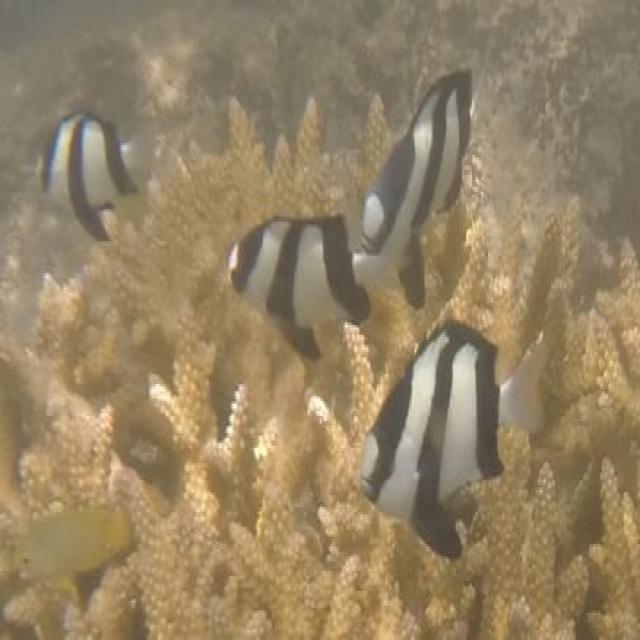Three_striped DasmselFish: (348, 318, 553, 562), (224, 210, 407, 367), (354, 69, 470, 300), (39, 104, 134, 237)
